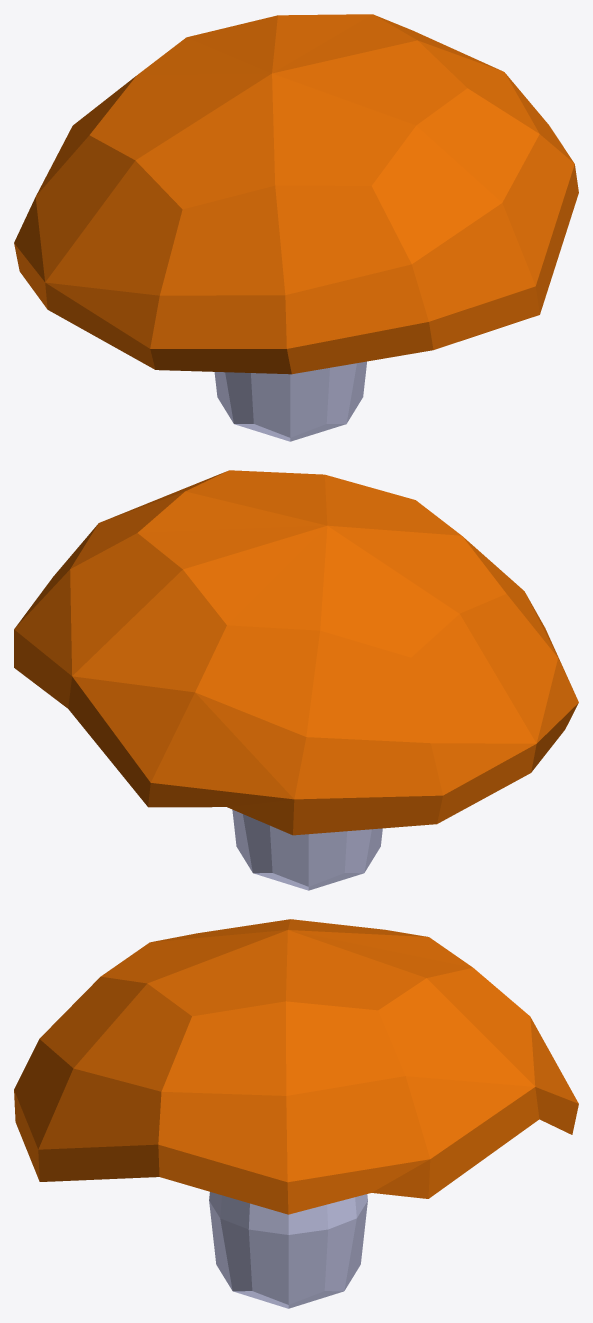
The model's file is Grzyb1v2.fbx.
3 views of the same model, one above another, from view 1: azimuth 30°, elevation 25°; view 2: azimuth 150°, elevation 25°; view 3: azimuth 270°, elevation 25° (orthographic).
Parts seen in each view (by area): view 1: Walec.001, Walec; view 2: Walec.001, Walec; view 3: Walec.001, Walec.
Part boxes in pixels (left/top/right/bottom): Walec.001: left=14, top=14, right=578, bottom=374; Walec: left=214, top=361, right=366, bottom=441; Walec.001: left=14, top=470, right=578, bottom=835; Walec: left=232, top=809, right=382, bottom=890; Walec.001: left=14, top=919, right=578, bottom=1214; Walec: left=209, top=1192, right=367, bottom=1308.
Size of the model in its own units: 294 by 209 by 290.
